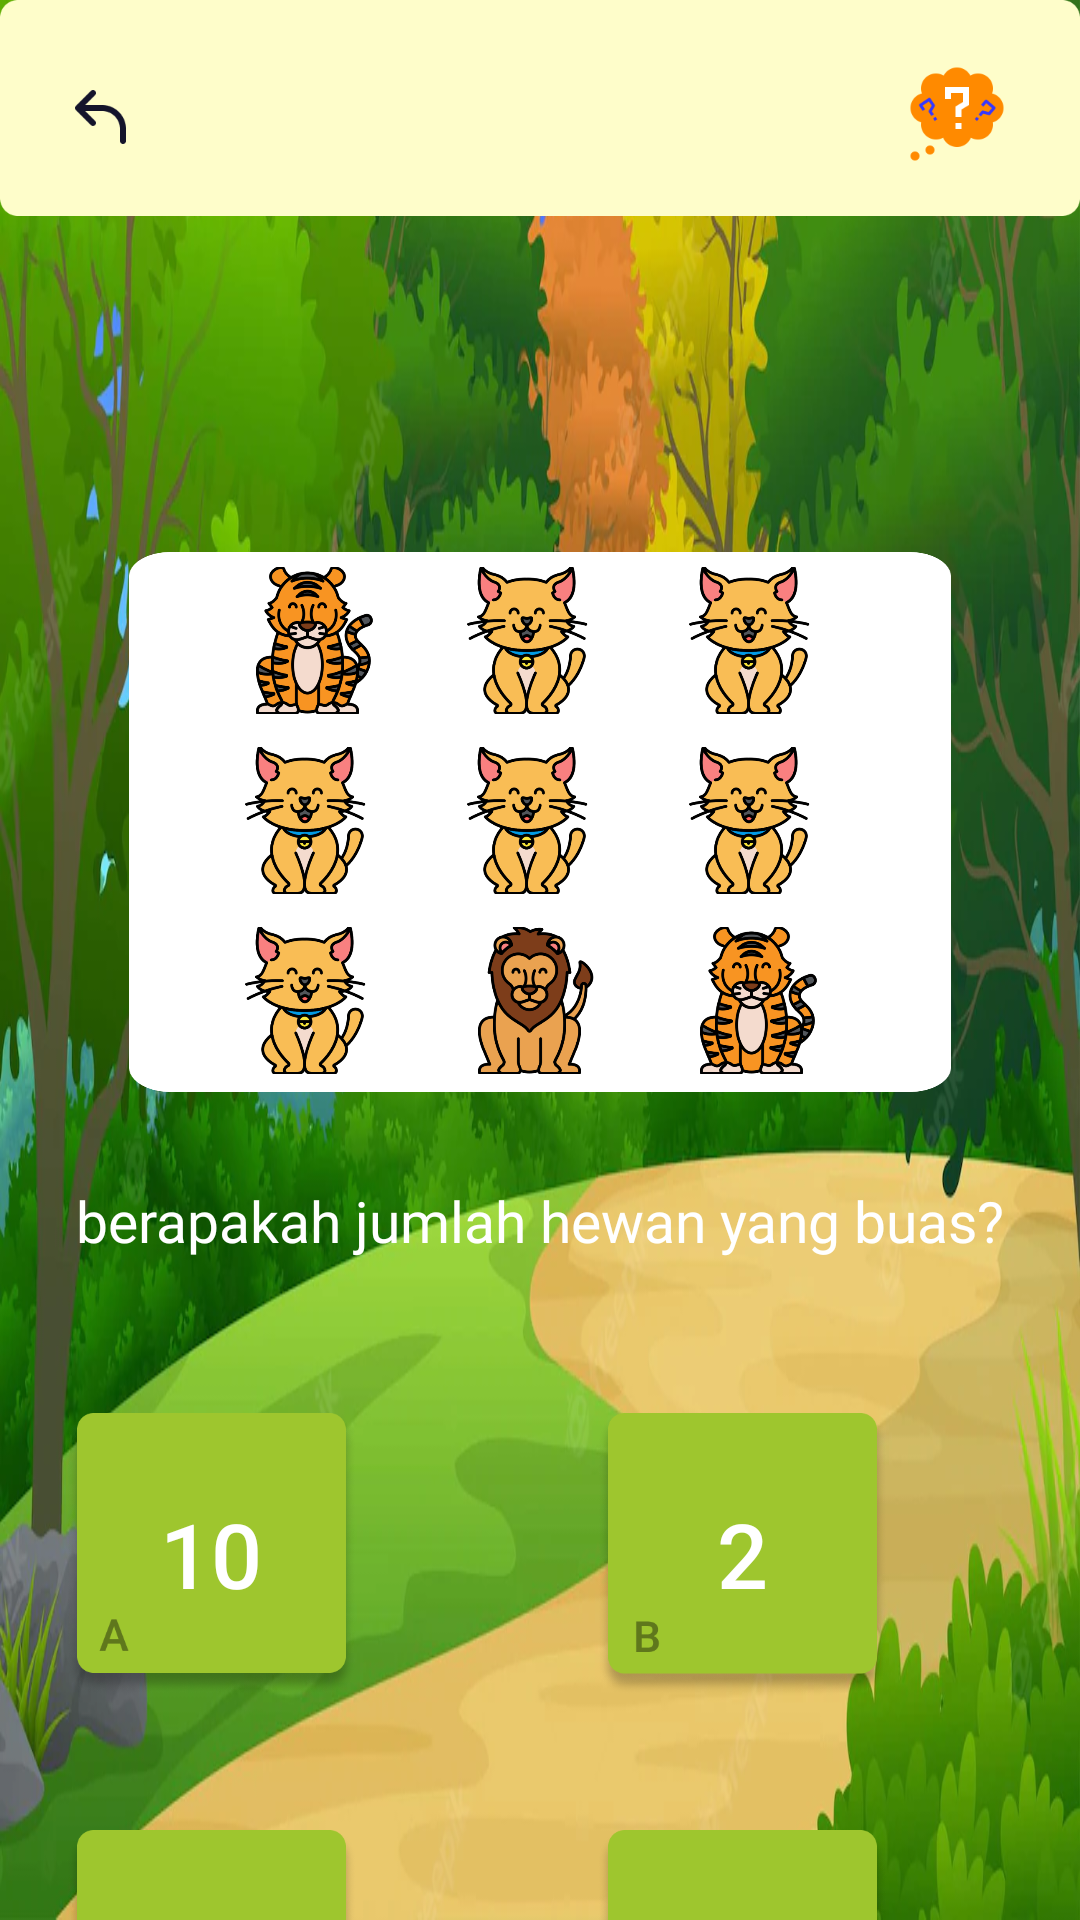

Named icons in this screenshot (1080×1920) and their centers, [x,y]:
back: [100,117]
harimau: [314,640], [758,1000]
help: [957,114]
kucing: [527,640], [749,640], [305,820], [527,820], [749,820], [305,1000]
singa: [536,1000]
